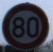Speed Limit -80-: (0, 0, 52, 51)
